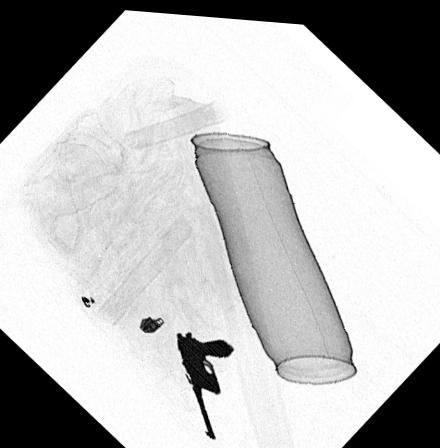Gun: (178, 326, 232, 436)
